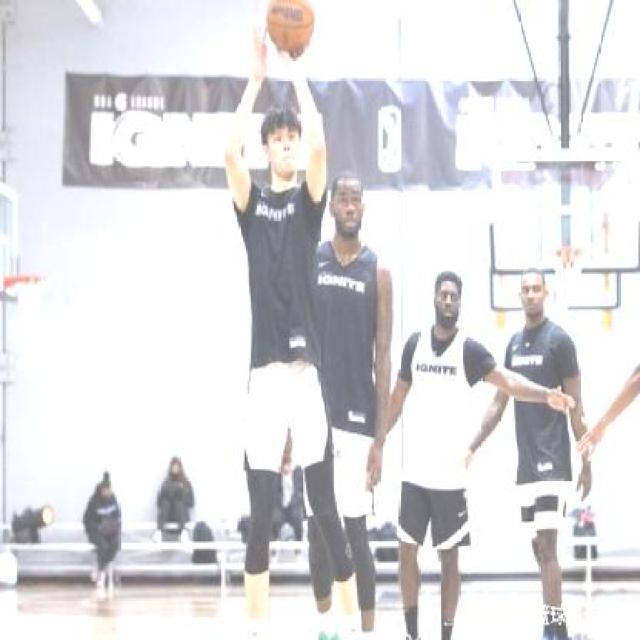Ball: (268, 2, 314, 52)
